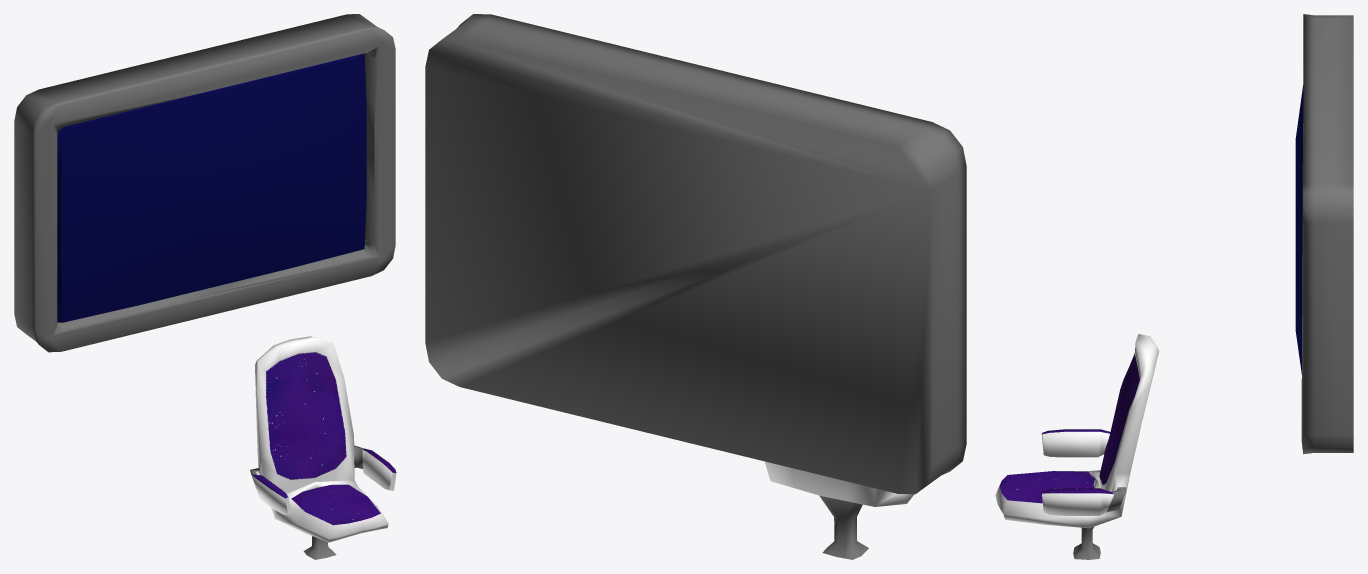
File: Monitor e Cadeira.fbx
3 renders of one model, left to right at view 1: azimuth 30°, elevation 25°; view 2: azimuth 150°, elevation 25°; view 3: azimuth 270°, elevation 25°, orthographic. The views are drawn at different scales.
Visible parts, largest first — view 1: monitor, cadeira; view 2: monitor, cadeira; view 3: monitor, cadeira.
Boxes of the visible parts, x1,y1,x2,y2 form: monitor: (14,14,395,352); cadeira: (250,336,396,559); monitor: (425,14,966,494); cadeira: (765,461,914,559); monitor: (1295,14,1353,454); cadeira: (995,334,1158,559).
Size of the model in its own units: 156 by 172 by 124.
Materials: 3 (1 with a texture image).
